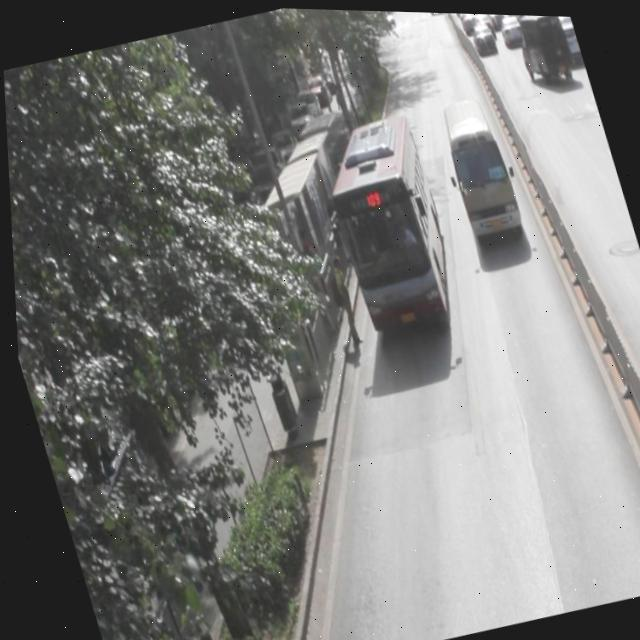truck: (431, 93, 523, 242)
van: (311, 107, 460, 333)
